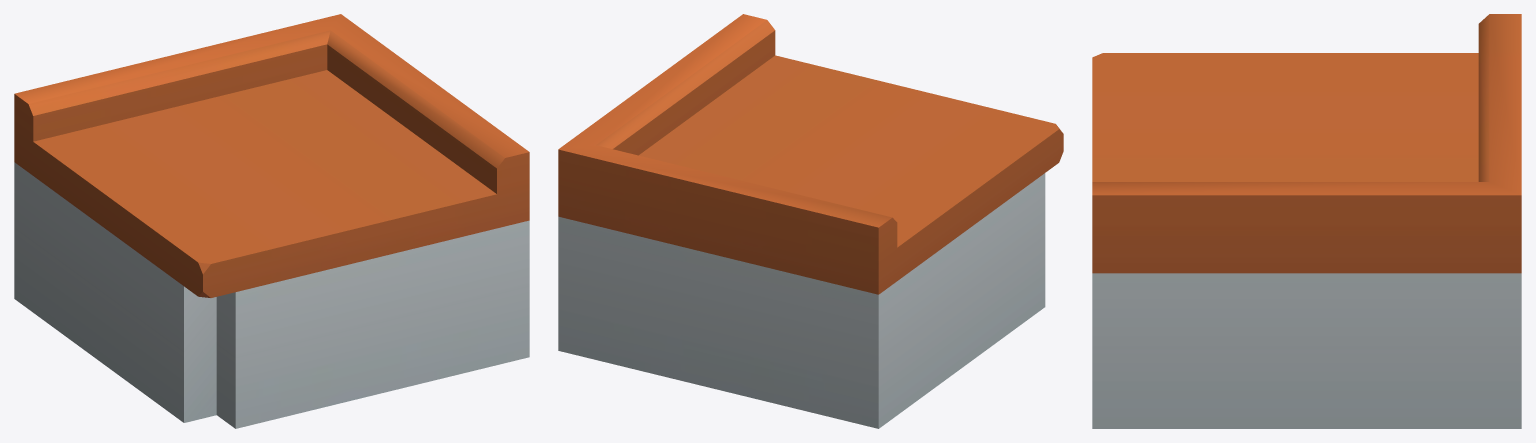
The model's file is kitchencounter-innercorner-backsplash.glb.
3 views of the same model, side by side, from view 1: azimuth 30°, elevation 25°; view 2: azimuth 150°, elevation 25°; view 3: azimuth 270°, elevation 25° (orthographic). The views are drawn at different scales.
Parts seen in each view (by area): view 1: kitchencounter_innercorner_backsplash; view 2: kitchencounter_innercorner_backsplash; view 3: kitchencounter_innercorner_backsplash.
Boxes of the visible parts, left/top/right/bottom form: kitchencounter_innercorner_backsplash: left=14, top=14, right=529, bottom=428; kitchencounter_innercorner_backsplash: left=558, top=14, right=1063, bottom=428; kitchencounter_innercorner_backsplash: left=1092, top=14, right=1521, bottom=428.
Size of the model in its own units: 2 by 1.2 by 2.
1 material, 1 textured.
